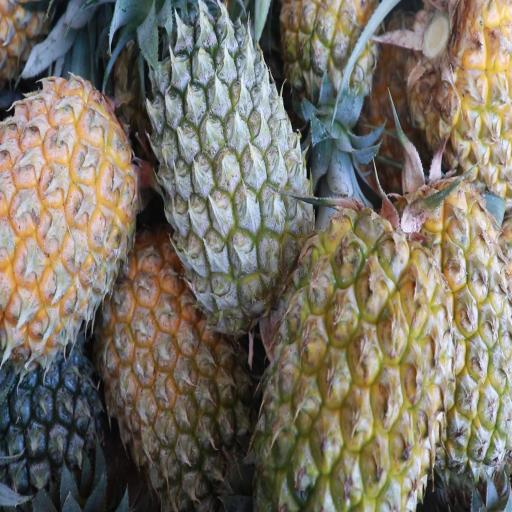------------------------------: (278, 0, 378, 188)
Pineapple - v8 v1: (253, 207, 448, 512), (97, 251, 251, 504), (0, 78, 141, 342), (385, 180, 512, 468), (400, 0, 511, 178)
